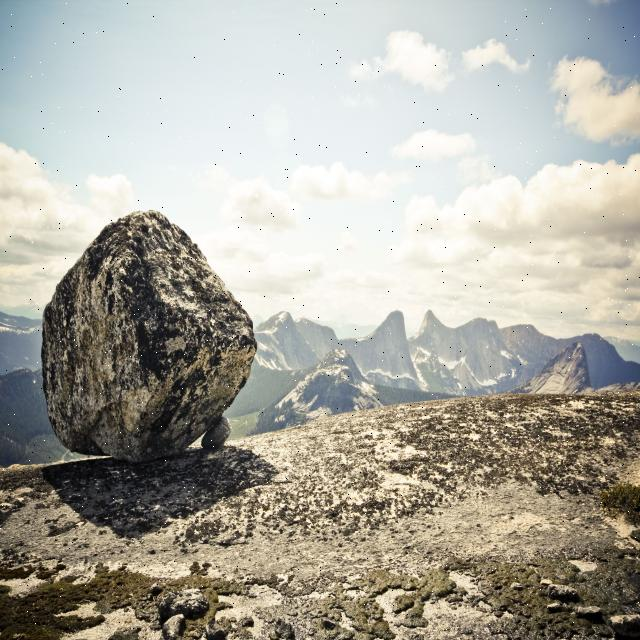Igneous: (24, 207, 300, 458)
